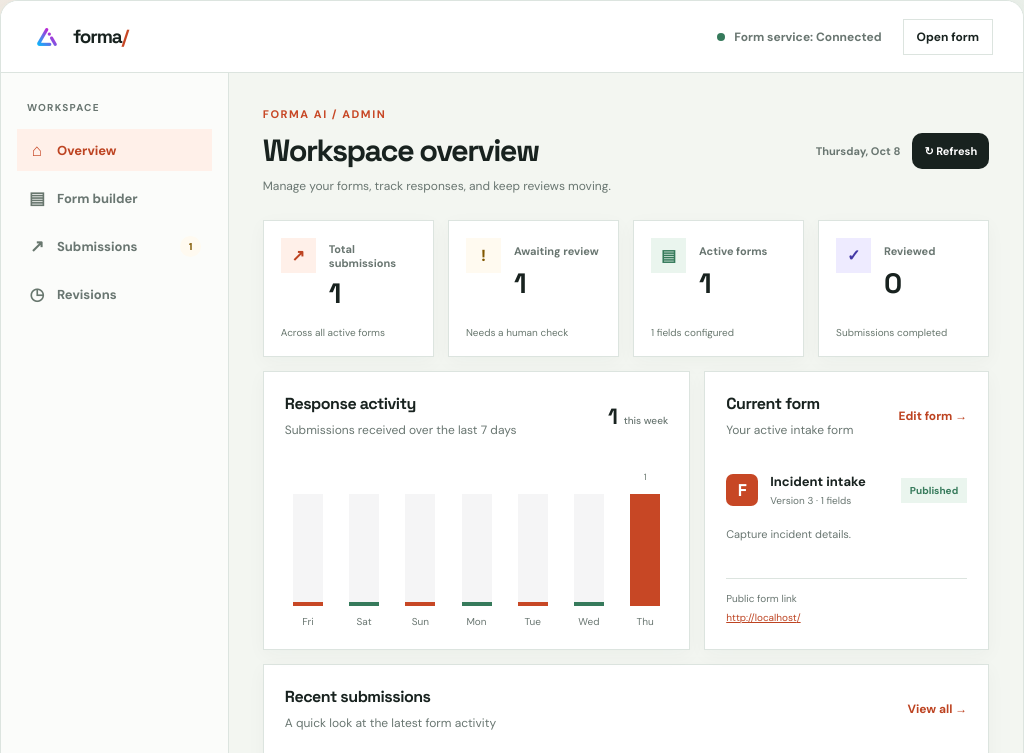
AdminDashboard › shows workspace metrics and lets an admin inspect a submission
Expected: the text "Awaiting review" is shown, [514, 244, 601, 258]
Expected: the text "Total submissions" is shown, [329, 242, 396, 270]
What coordinates should you click on to do the following:
click the button "Open form"
I would click on:
 (948, 36)
Its box is [902, 18, 993, 54].
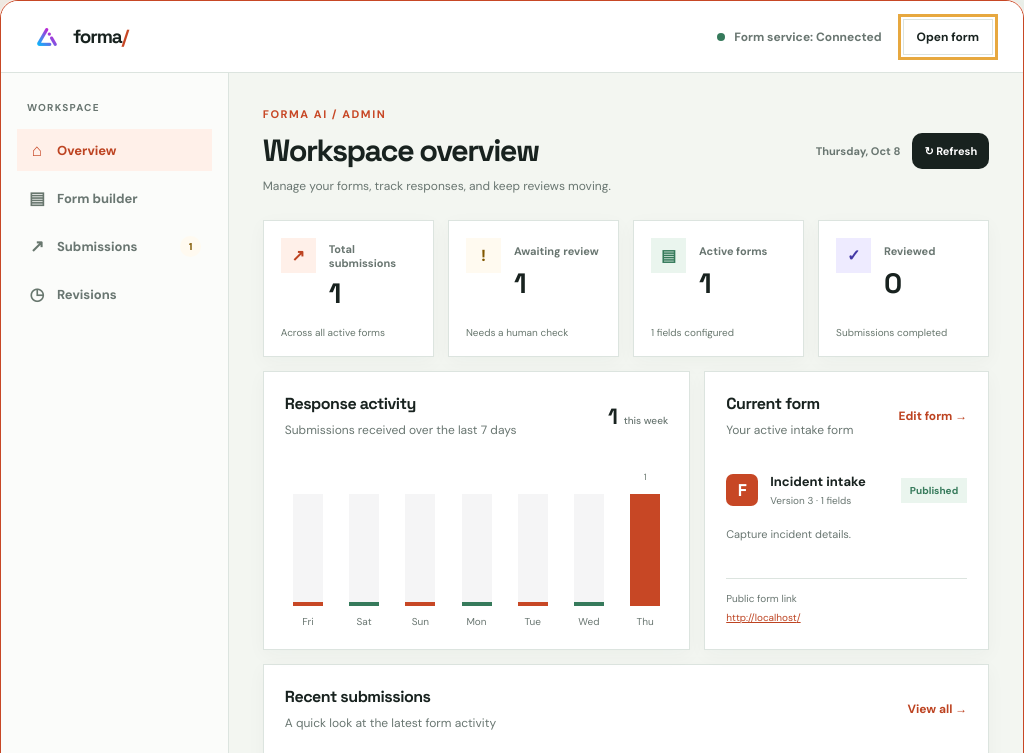
What coordinates should you click on to do the following:
click the button "↗ Submissions 1"
I would click on:
 (114, 246)
Its box is [17, 225, 212, 267].
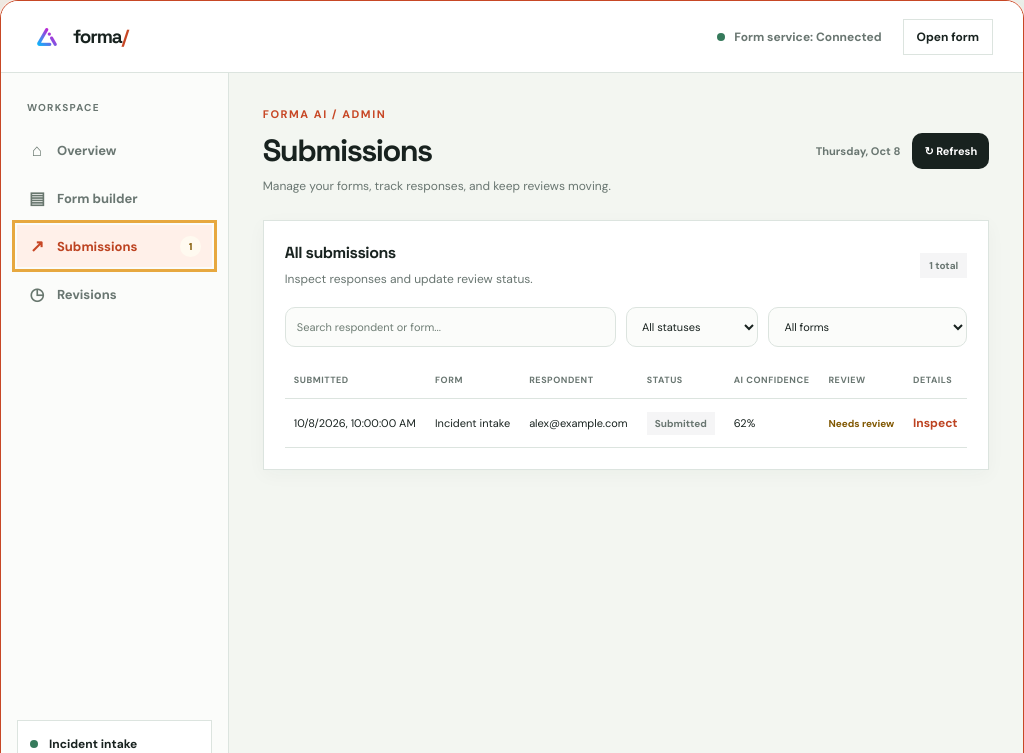
What coordinates should you click on to do the following:
click the button "Inspect"
I would click on:
 (935, 423)
Its box is [913, 411, 958, 435].
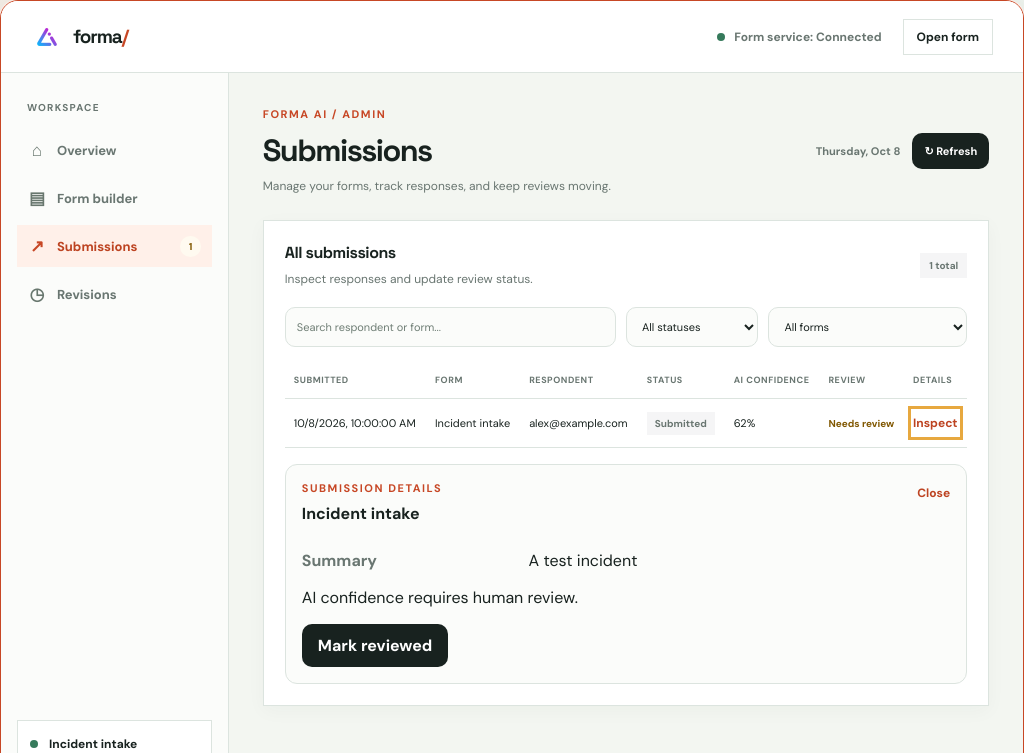
Result: the text "A test incident" is shown at [529, 550, 637, 571]
Result: the text "AI confidence requires human review." is shown at [302, 587, 578, 608]
